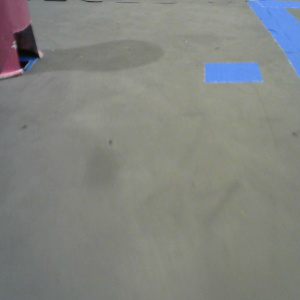middle: (1, 1, 43, 79)
